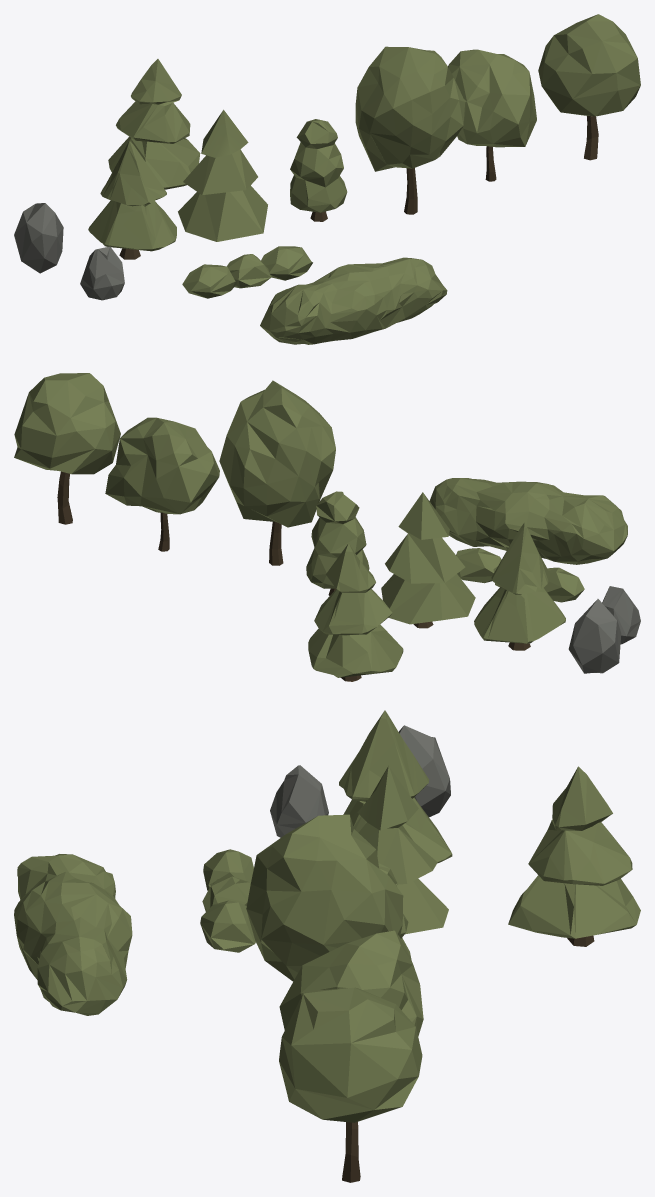
The model's file is Nature04.fbx.
3 renders of one model, top to bottom at view 1: azimuth 30°, elevation 25°; view 2: azimuth 150°, elevation 25°; view 3: azimuth 270°, elevation 25°, orthographic. The views are drawn at different scales.
Parts seen in each view (by area): view 1: pCube19, polySurface25, pCube20, pCylinder17, pCylinder3, pCylinder16, polySurface27, pCylinder11, pCube21, polySurface16, polySurface13, polySurface24 (+1 smaller); view 2: pCube19, polySurface25, pCube20, pCylinder3, pCylinder16, pCylinder17, polySurface27, pCylinder11, pCube21, polySurface16, polySurface24, polySurface13; view 3: pCube19, pCube20, polySurface25, pCylinder16, pCylinder3, pCylinder17, polySurface27, polySurface16, pCube21, polySurface24, polySurface13, polySurface23.
Part boxes in pixels (box(x1,y1,x2,y2)): pCube19: box(355, 46, 465, 214); polySurface25: box(260, 257, 447, 344); pCube20: box(538, 14, 640, 160); pCylinder17: box(178, 109, 267, 241); pCylinder3: box(448, 49, 536, 181); pCylinder16: box(108, 59, 200, 189); polySurface27: box(88, 141, 176, 259); pCylinder11: box(290, 119, 347, 221); pCube21: box(14, 203, 63, 273); polySurface16: box(80, 246, 124, 300); polySurface13: box(182, 264, 236, 298); polySurface24: box(261, 246, 312, 280); pCube19: box(219, 380, 335, 565); polySurface25: box(429, 478, 627, 564); pCube20: box(14, 373, 120, 524); pCylinder3: box(105, 417, 219, 551); pCylinder16: box(308, 543, 403, 681); pCylinder17: box(381, 492, 475, 628); polySurface27: box(474, 522, 565, 650); pCylinder11: box(306, 491, 369, 595); pCube21: box(568, 599, 621, 673); polySurface16: box(602, 586, 640, 644); polySurface24: box(456, 548, 501, 583); polySurface13: box(544, 567, 584, 602); pCube19: box(246, 814, 403, 981); pCube20: box(279, 987, 422, 1182); polySurface25: box(14, 854, 132, 1015); pCylinder16: box(508, 766, 640, 946); pCylinder3: box(279, 930, 423, 1036); pCylinder17: box(357, 765, 448, 934); polySurface27: box(339, 710, 452, 863); polySurface16: box(270, 765, 328, 837); pCube21: box(399, 725, 450, 817); polySurface24: box(200, 900, 255, 952); polySurface13: box(203, 849, 253, 890); polySurface23: box(202, 876, 250, 911).
Bounding box in the file's own units: 23322 × 6830 × 15254.
